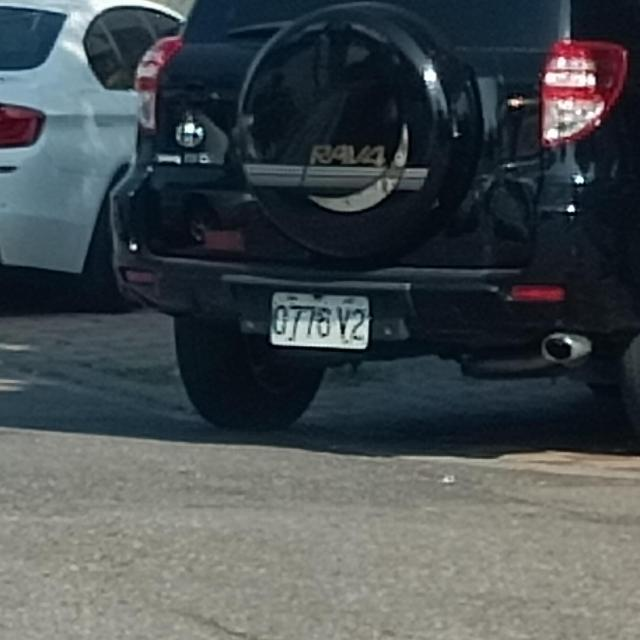W: (266, 288, 372, 353)
